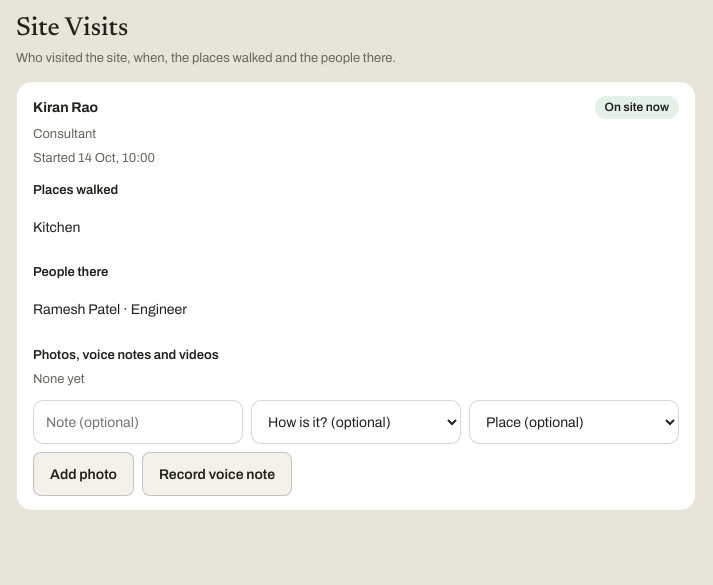
Test case: Stage 1 voice notes on a visit › sends a recorded note as a visit file in its base type, with its note, rating and place, and no length
Type " Check the slab " into the field labelled "Note (optional)" at (138, 422), box [33,400,243,444]
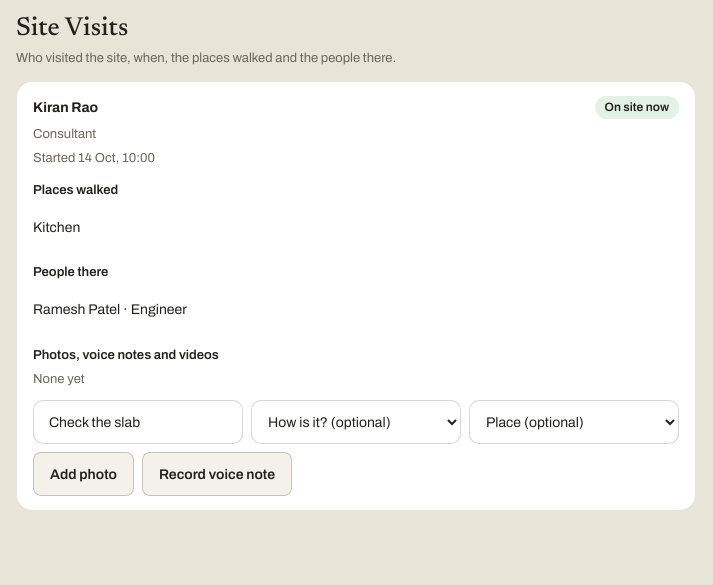
Select "Concern" in the dropdown named "How is it? (optional)" at (356, 422), box [251,400,461,444]
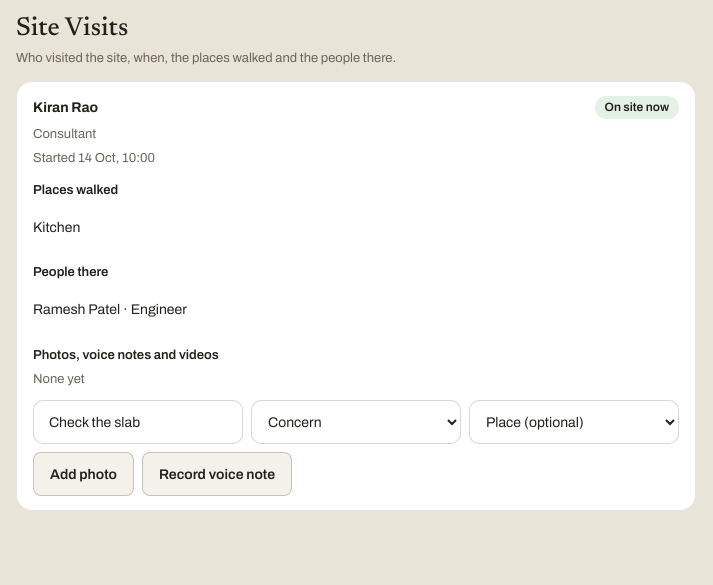
Select "Kitchen" in the dropdown named "Place (optional)" at (574, 422), box [469,400,679,444]
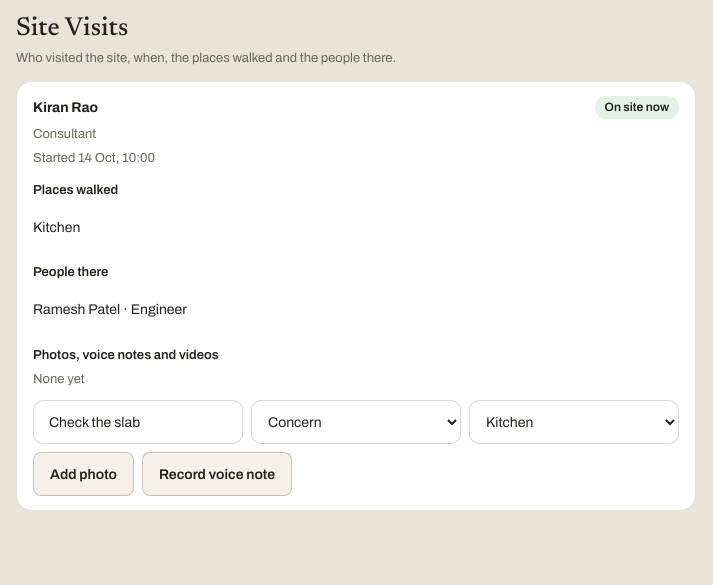
Click the button "Record voice note" at (217, 474), box [142,452,292,496]
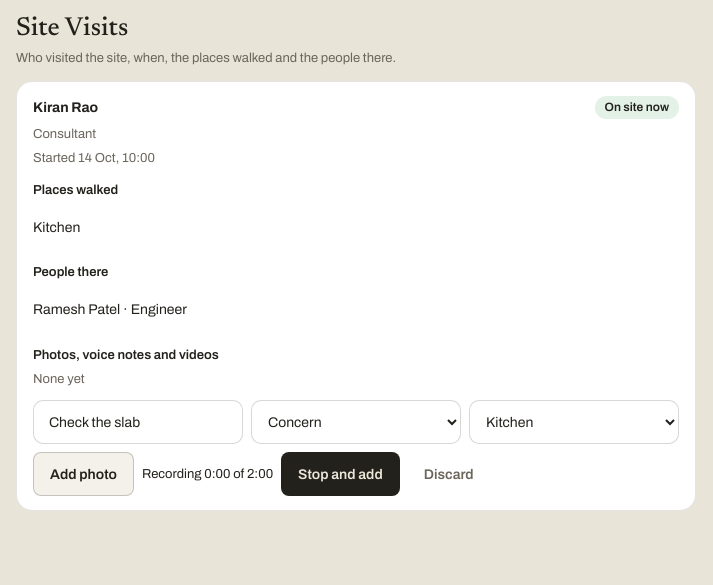
Click the button "Stop and add" at (340, 474), box [281,452,400,496]
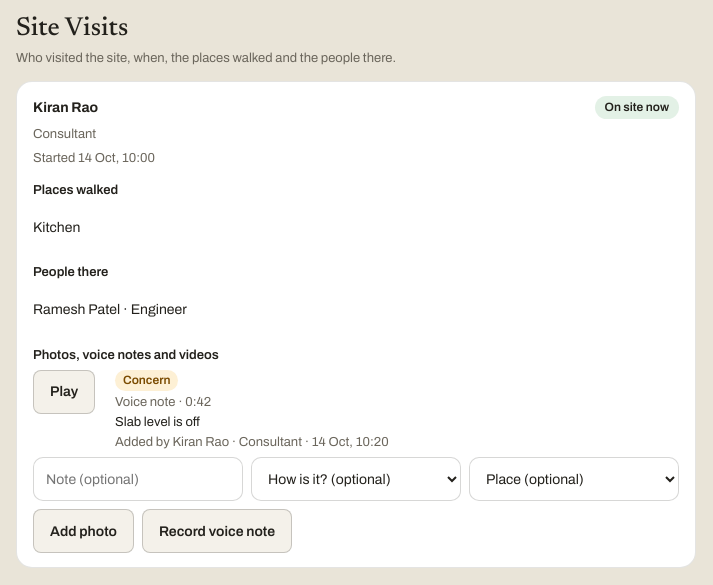
Now the list item with test id "sv-file-m-9" shows "Voice note · 0:42", box [33,370,389,449]
Now the field labelled "Note (optional)" is empty, box [33,457,243,501]
